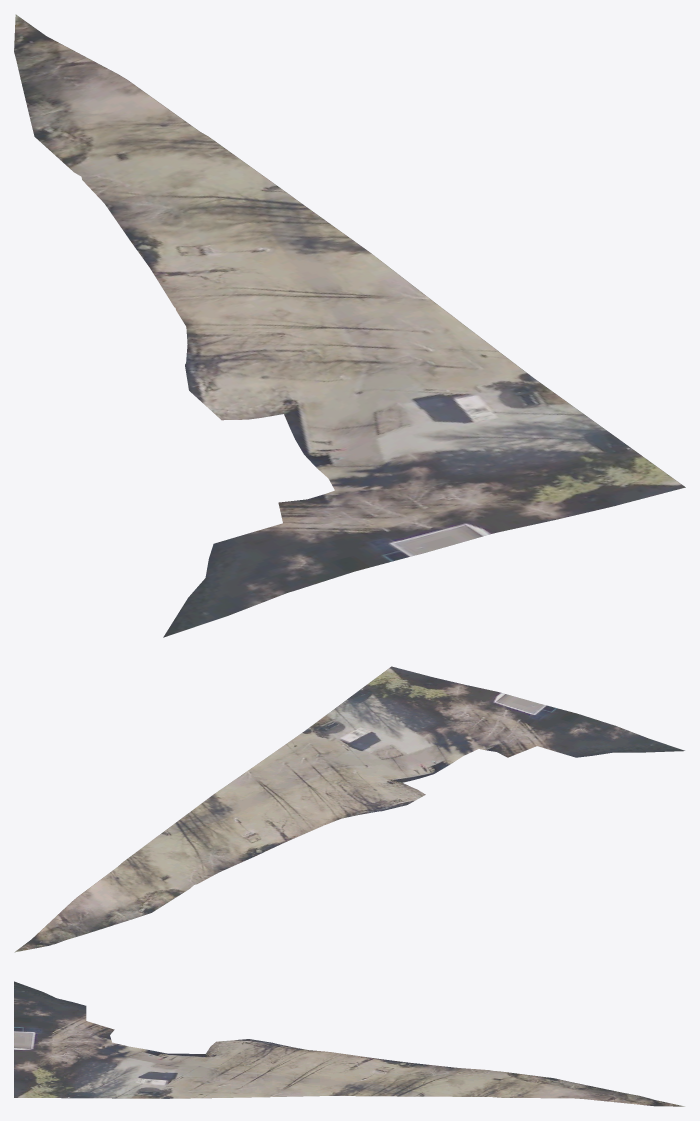
The model's file is CM_Terrain_24487797_6822660.fbx.
The picture shows the model from 3 angles, top to bottom: view 1: azimuth 30°, elevation 25°; view 2: azimuth 150°, elevation 25°; view 3: azimuth 270°, elevation 25°; orthographic projection. The views are drawn at different scales.
Visible parts, largest first — view 1: CM_Terrain_24487797_6822660_LOD0; view 2: CM_Terrain_24487797_6822660_LOD0; view 3: CM_Terrain_24487797_6822660_LOD0.
Part boxes in pixels (box(x1,y1,x2,y2)): CM_Terrain_24487797_6822660_LOD0: box(14, 14, 685, 637); CM_Terrain_24487797_6822660_LOD0: box(14, 666, 684, 952); CM_Terrain_24487797_6822660_LOD0: box(14, 981, 684, 1106).
Size of what is drawn, in the model's own units: 55.79 by 2.76 by 124.
